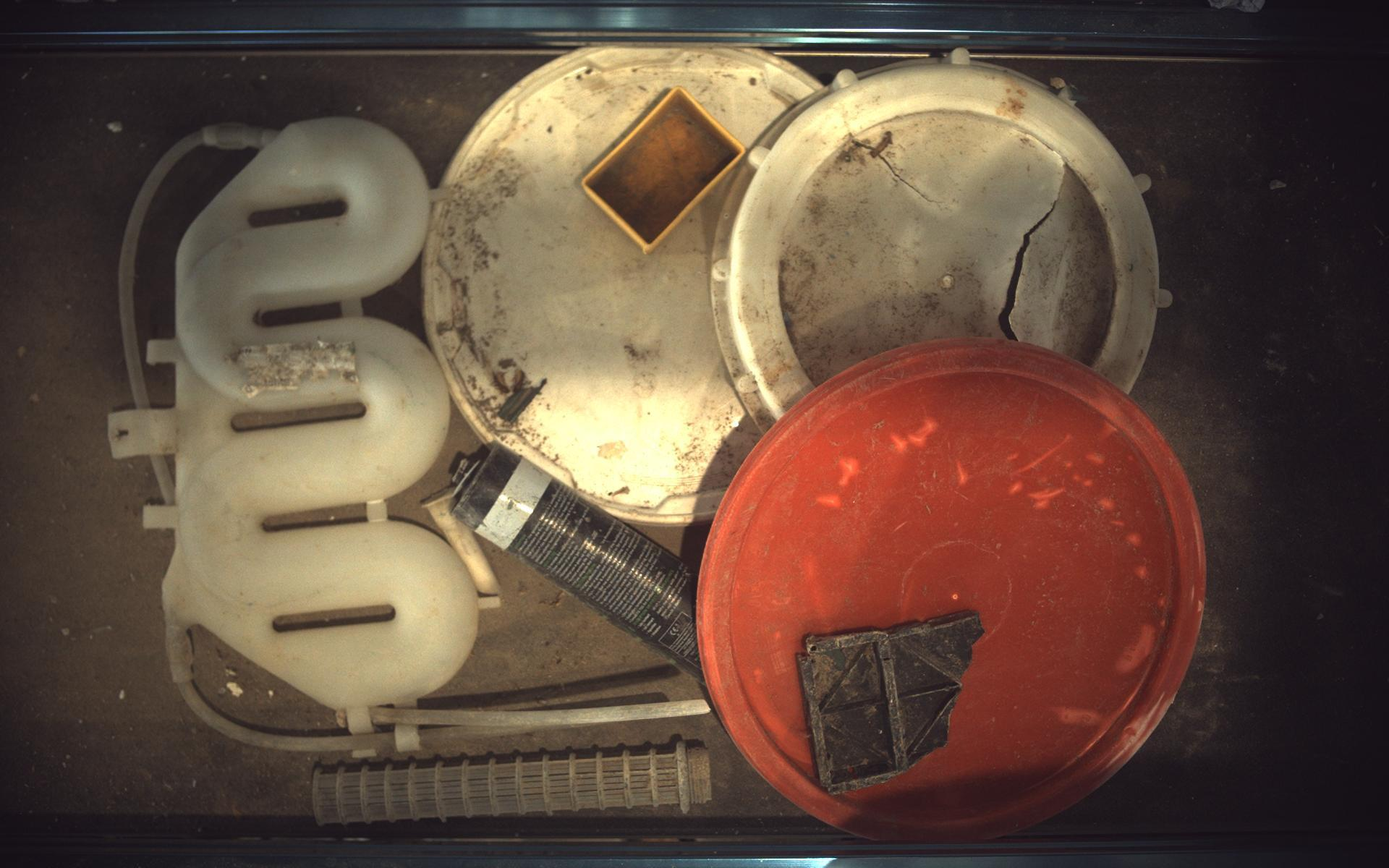plastic: (108, 116, 709, 755), (699, 339, 1208, 842), (423, 46, 819, 526), (713, 47, 1173, 429), (453, 443, 704, 680), (799, 613, 986, 796), (312, 741, 713, 826), (582, 85, 746, 252), (421, 486, 501, 597)
